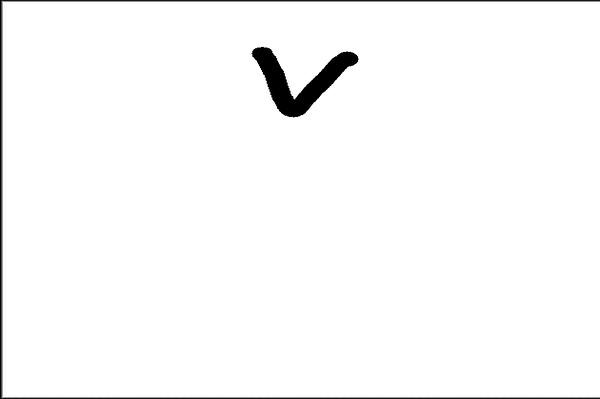V: (239, 36, 368, 130)
